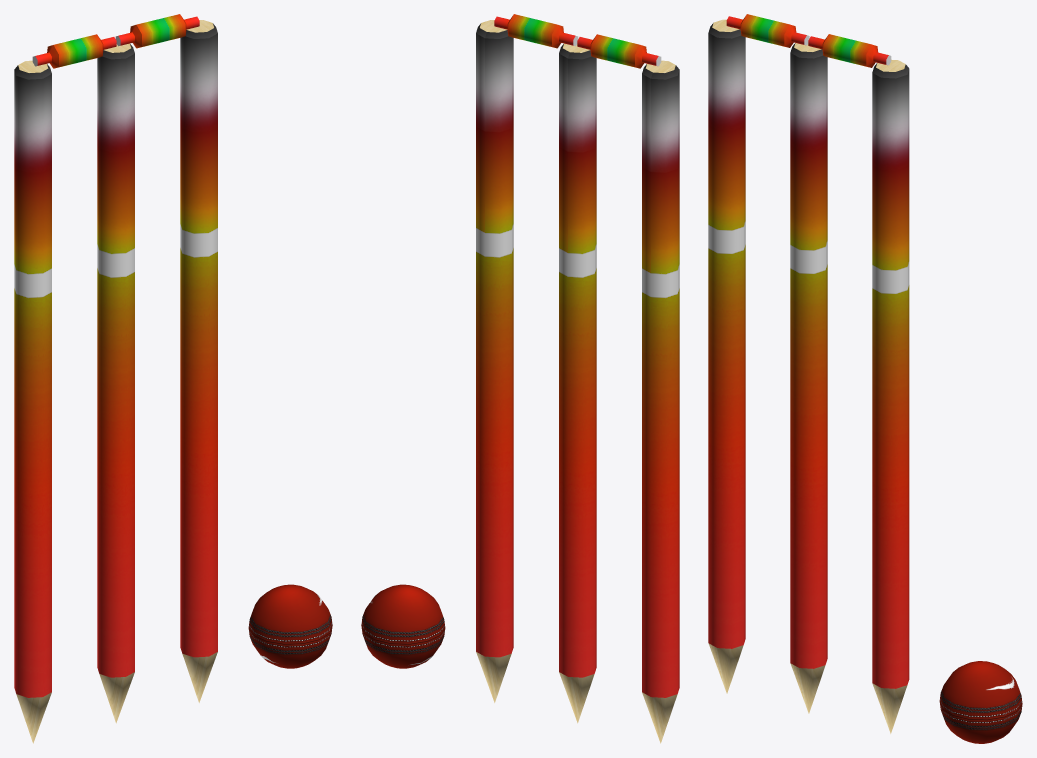
Rendered from Stumps_Ball.fbx.
3 views of the same model, side by side, from view 1: azimuth 30°, elevation 25°; view 2: azimuth 150°, elevation 25°; view 3: azimuth 330°, elevation 25° (orthographic).
Visible parts, largest first — view 1: stump_2, stump_3, stump_1, Ball, bails_1, bails_2; view 2: stump_2, stump_3, stump_1, Ball, bails_1, bails_2; view 3: stump_3, stump_2, stump_1, Ball, bails_2, bails_1.
Boxes of the visible parts, x1,y1,x2,y2 form: stump_2: (14, 60, 51, 743); stump_3: (180, 20, 217, 702); stump_1: (97, 43, 134, 723); Ball: (248, 584, 332, 668); bails_1: (32, 34, 116, 68); bails_2: (115, 14, 199, 48); stump_2: (642, 60, 679, 743); stump_3: (476, 20, 513, 702); stump_1: (559, 43, 596, 723); Ball: (361, 584, 445, 668); bails_1: (577, 34, 661, 68); bails_2: (494, 14, 578, 48); stump_3: (872, 59, 909, 733); stump_2: (708, 19, 745, 693); stump_1: (790, 43, 827, 713); Ball: (939, 661, 1022, 743); bails_2: (808, 34, 891, 67); bails_1: (726, 14, 809, 47).
Size of the model in its own units: 746 by 1593 by 171.
1 material, 1 textured.
